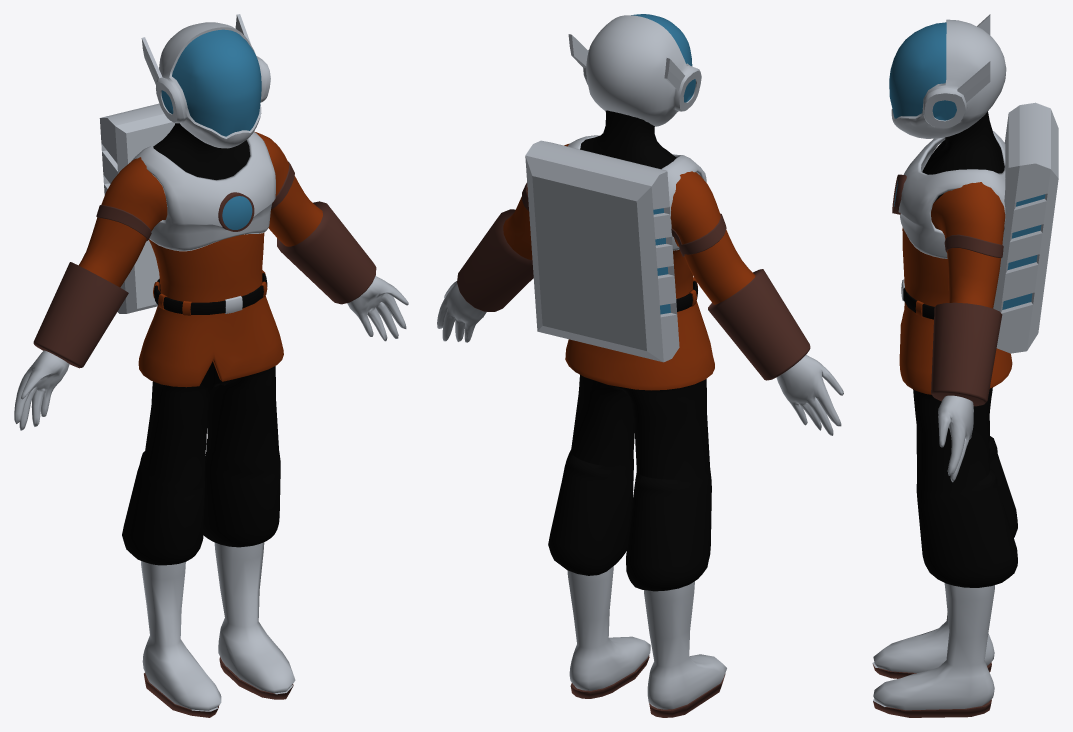
The model's file is Placeholder_Theta.fbx.
The picture shows the model from 3 angles, left to right: view 1: azimuth 30°, elevation 25°; view 2: azimuth 150°, elevation 25°; view 3: azimuth 270°, elevation 25°; orthographic projection. The views are drawn at different scales.
Parts seen in each view (by area): view 1: Combined_Theta; view 2: Combined_Theta; view 3: Combined_Theta.
Part boxes in pixels (box(x1,y1,x2,y2)): Combined_Theta: box(14, 14, 408, 717); Combined_Theta: box(437, 14, 843, 717); Combined_Theta: box(872, 14, 1058, 717).
Size of the model in its own units: 1.21 by 1.94 by 0.4929.
